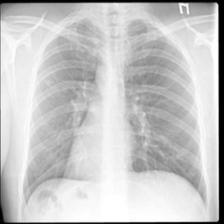tuberculosis: (17, 10, 212, 220)
